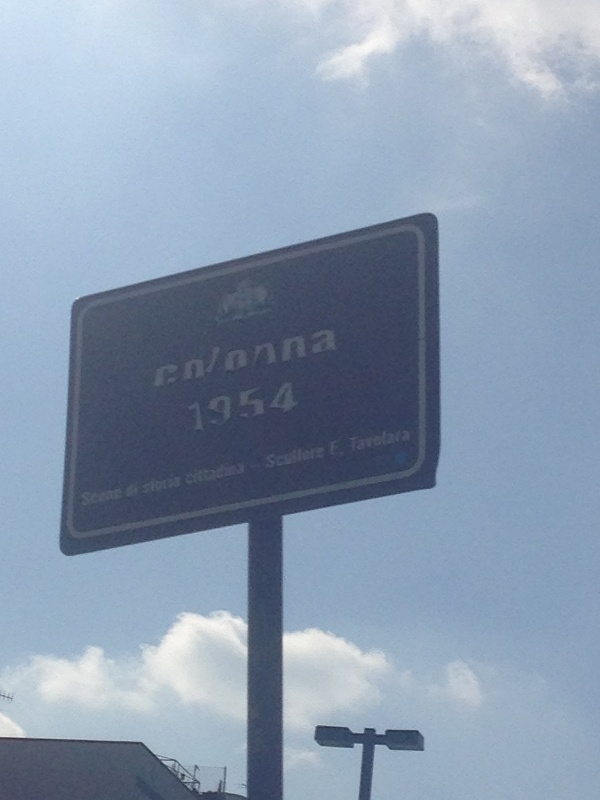text: (81, 427, 96, 511), (97, 427, 112, 511), (113, 427, 128, 511), (129, 427, 144, 511), (145, 427, 160, 511), (161, 427, 176, 511), (177, 427, 192, 511), (193, 427, 208, 511), (209, 427, 224, 511), (225, 427, 240, 511), (241, 427, 256, 511), (257, 427, 272, 511), (273, 427, 288, 511), (289, 427, 304, 511), (305, 427, 320, 511), (321, 427, 336, 511), (337, 427, 352, 511), (353, 427, 368, 511), (369, 427, 384, 511), (385, 427, 400, 511), (401, 427, 412, 511), (161, 327, 176, 387), (177, 327, 192, 387), (193, 327, 208, 387), (209, 327, 224, 387), (225, 327, 240, 387), (241, 327, 256, 387), (257, 327, 272, 387), (273, 327, 288, 387), (289, 327, 304, 387), (305, 327, 320, 387), (321, 327, 336, 387), (193, 380, 208, 434), (209, 380, 224, 434), (225, 380, 240, 434), (241, 380, 256, 434), (257, 380, 272, 434), (273, 380, 288, 434), (289, 380, 300, 434), (188, 380, 192, 434), (157, 327, 160, 387), (337, 327, 338, 387)
